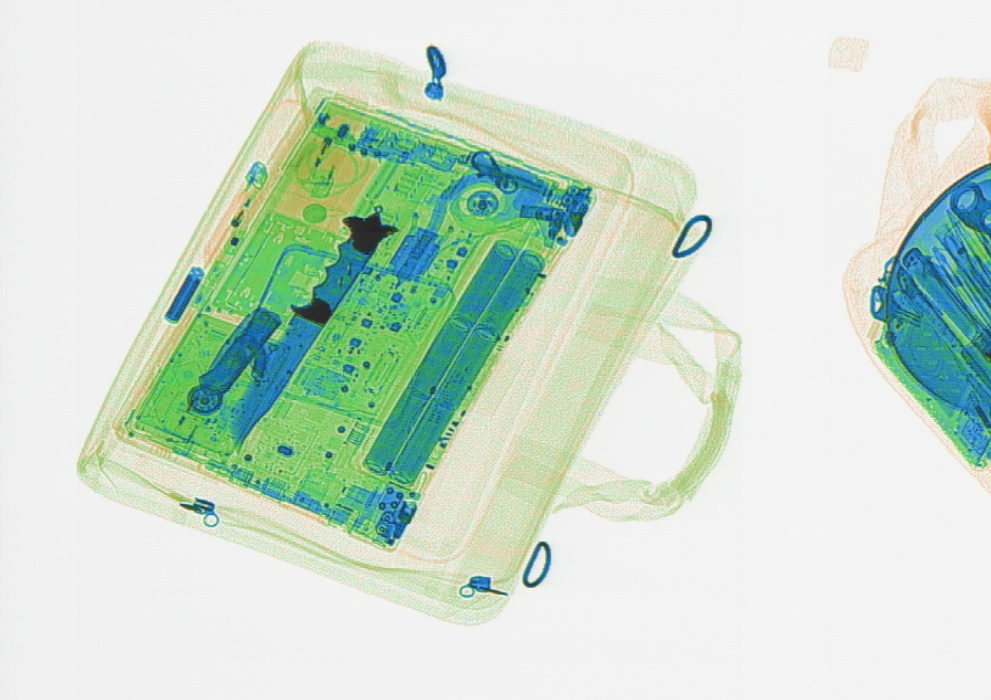knife: (227, 201, 401, 452), (185, 303, 279, 414)
lighter: (295, 86, 366, 199), (200, 157, 267, 269)
